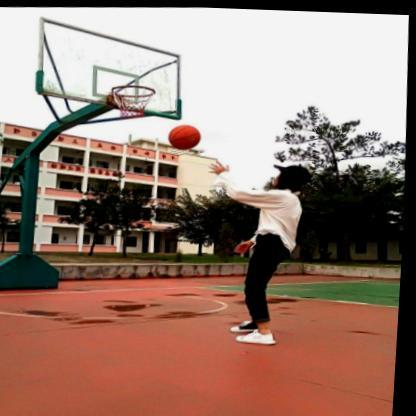basketball: (169, 122, 204, 150)
rim: (110, 82, 157, 118)
